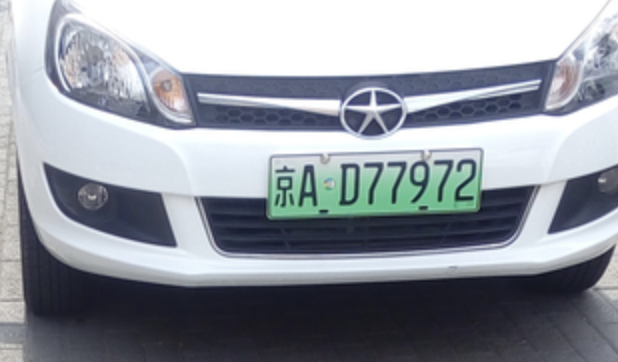licence plate: (266, 143, 487, 217)
